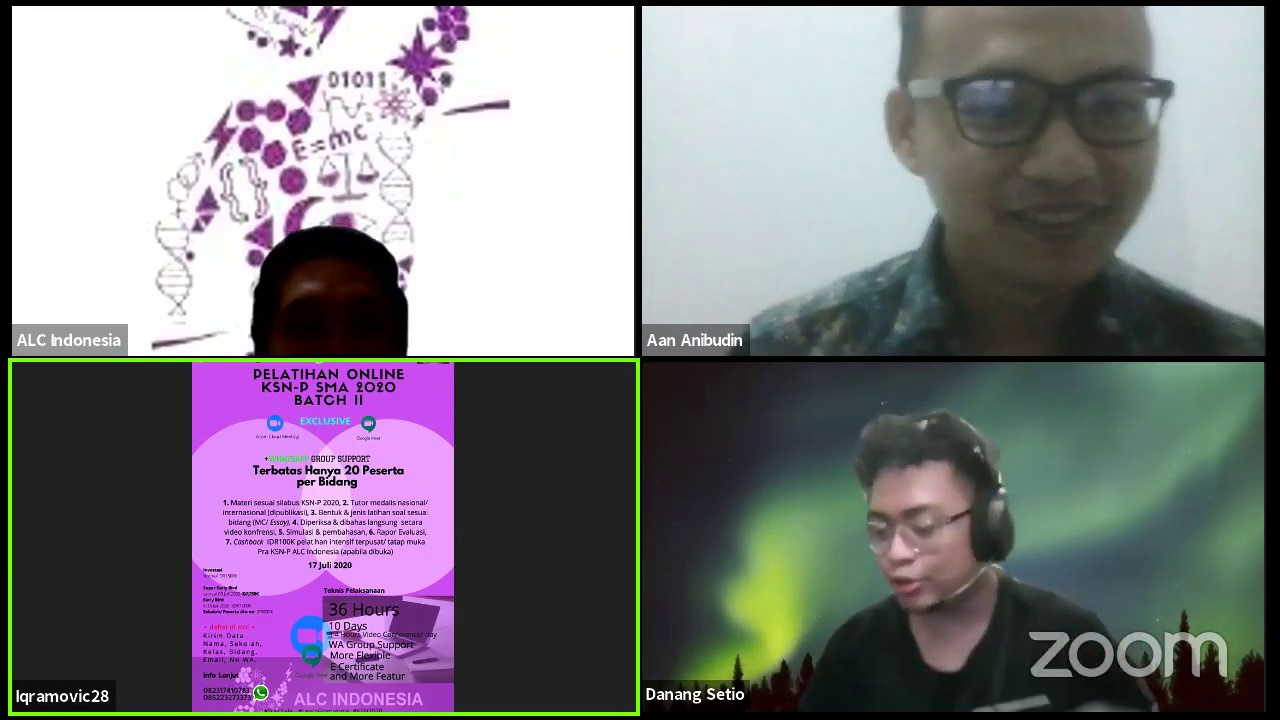Distracted: (844, 428, 1011, 606)
Not Distracted: (885, 11, 1163, 289), (245, 250, 415, 352)
